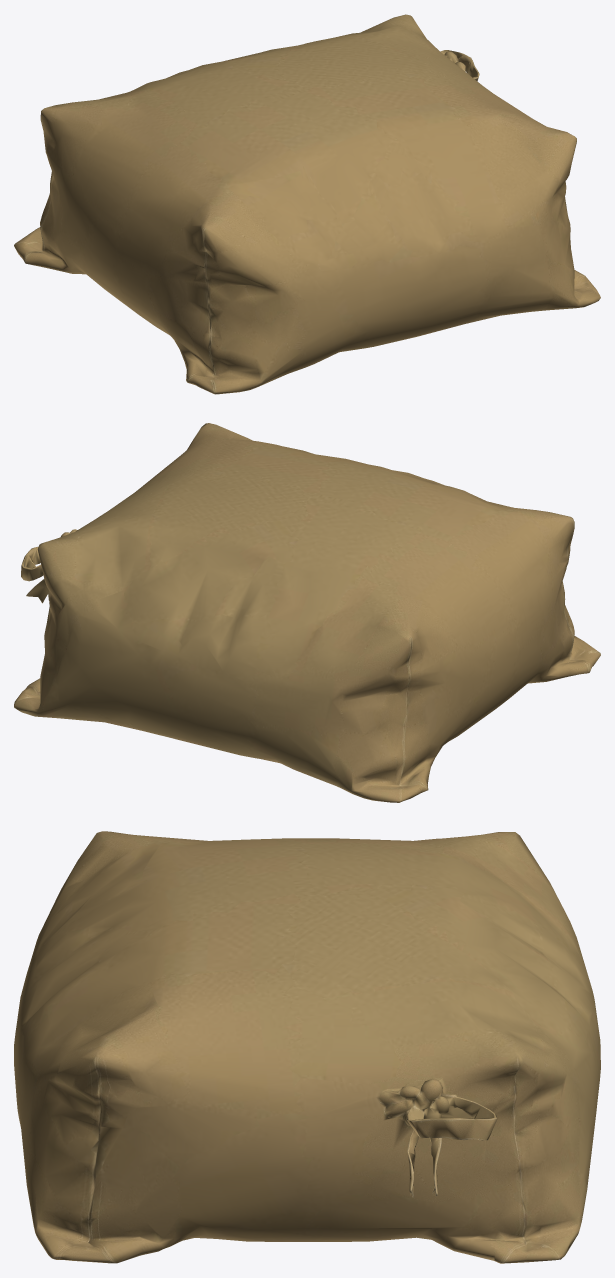
File: kum_torbasi_1.glb
The picture shows the model from 3 angles, top to bottom: view 1: azimuth 30°, elevation 25°; view 2: azimuth 150°, elevation 25°; view 3: azimuth 270°, elevation 25°; orthographic projection. The views are drawn at different scales.
Visible parts, largest first — view 1: kok; view 2: kok; view 3: kok.
Part boxes in pixels (bbox=[...]): kok: bbox=[14, 14, 600, 394]; kok: bbox=[14, 423, 600, 802]; kok: bbox=[14, 831, 600, 1263].
Bounding box in the file's own units: 0.6 × 0.2506 × 0.5513.
1 material, 1 textured.
